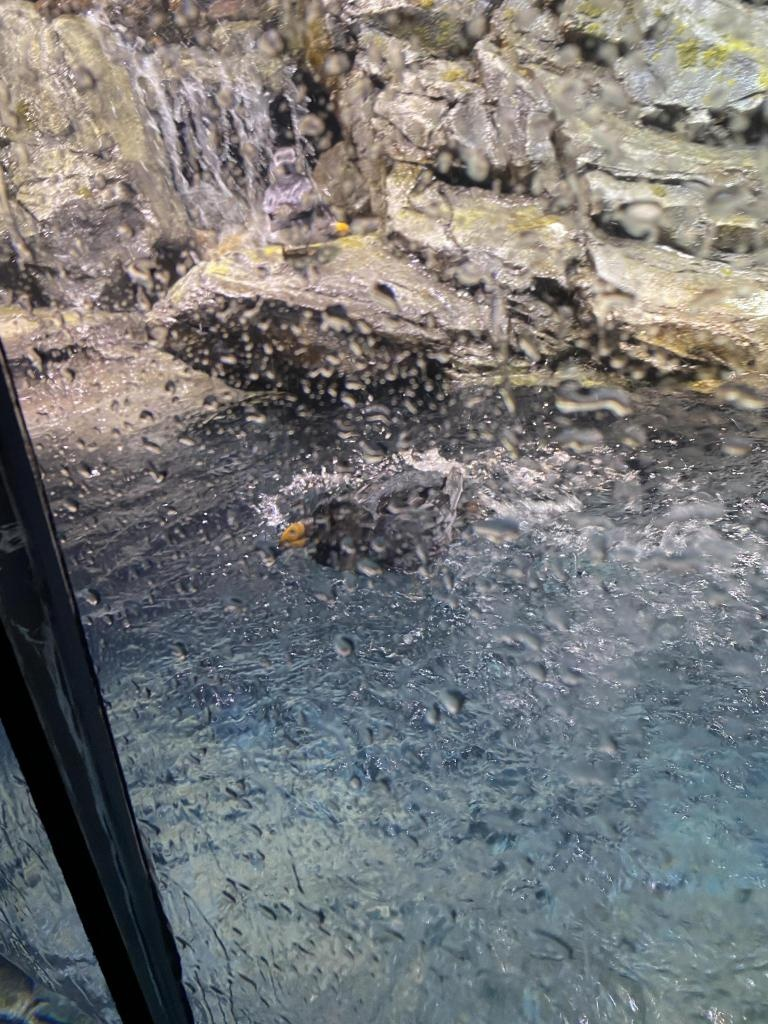puffin: (275, 467, 495, 579), (262, 169, 352, 265)
